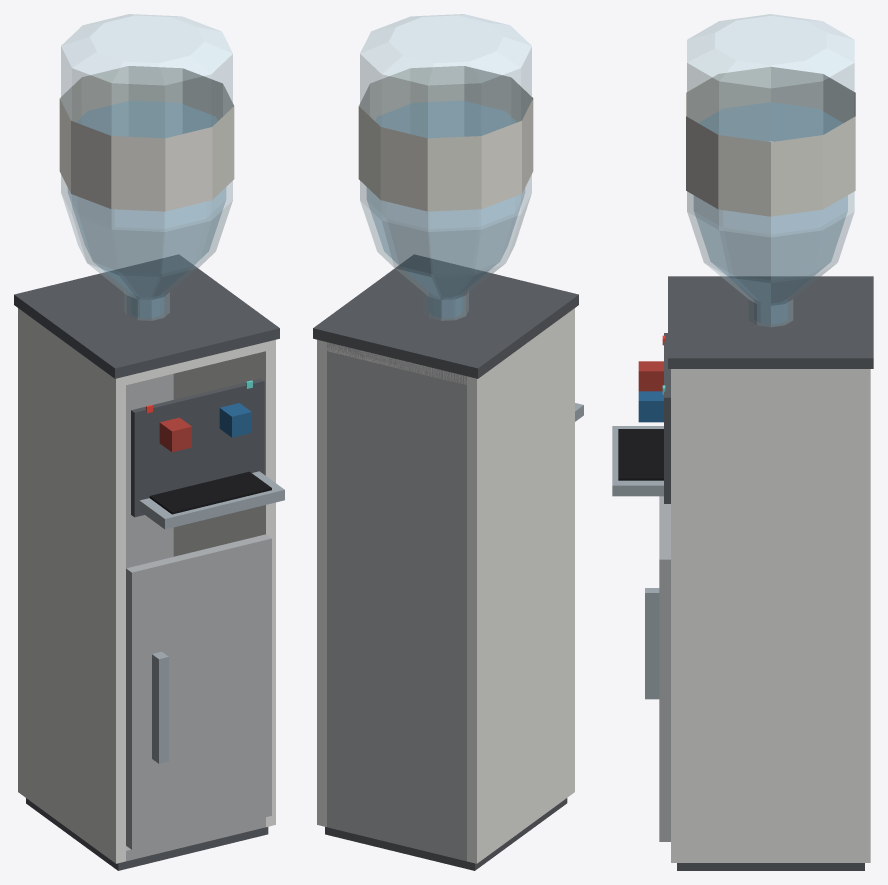
Rendered from GO_WaterCooler_01.glb.
The picture shows the model from 3 angles, left to right: view 1: azimuth 30°, elevation 25°; view 2: azimuth 150°, elevation 25°; view 3: azimuth 270°, elevation 25°; orthographic projection.
Visible parts, largest first — view 1: GO_WaterCooler_01, Door; view 2: GO_WaterCooler_01; view 3: GO_WaterCooler_01, Door.
Part boxes in pixels (x1,y1,x2,y2): GO_WaterCooler_01: [14, 14, 284, 870]; Door: [126, 534, 271, 849]; GO_WaterCooler_01: [313, 14, 583, 870]; GO_WaterCooler_01: [612, 14, 873, 870]; Door: [645, 496, 670, 841].
Bounding box in the file's own units: 0.33 × 1.49 × 0.445.
2 materials, 2 textured.
